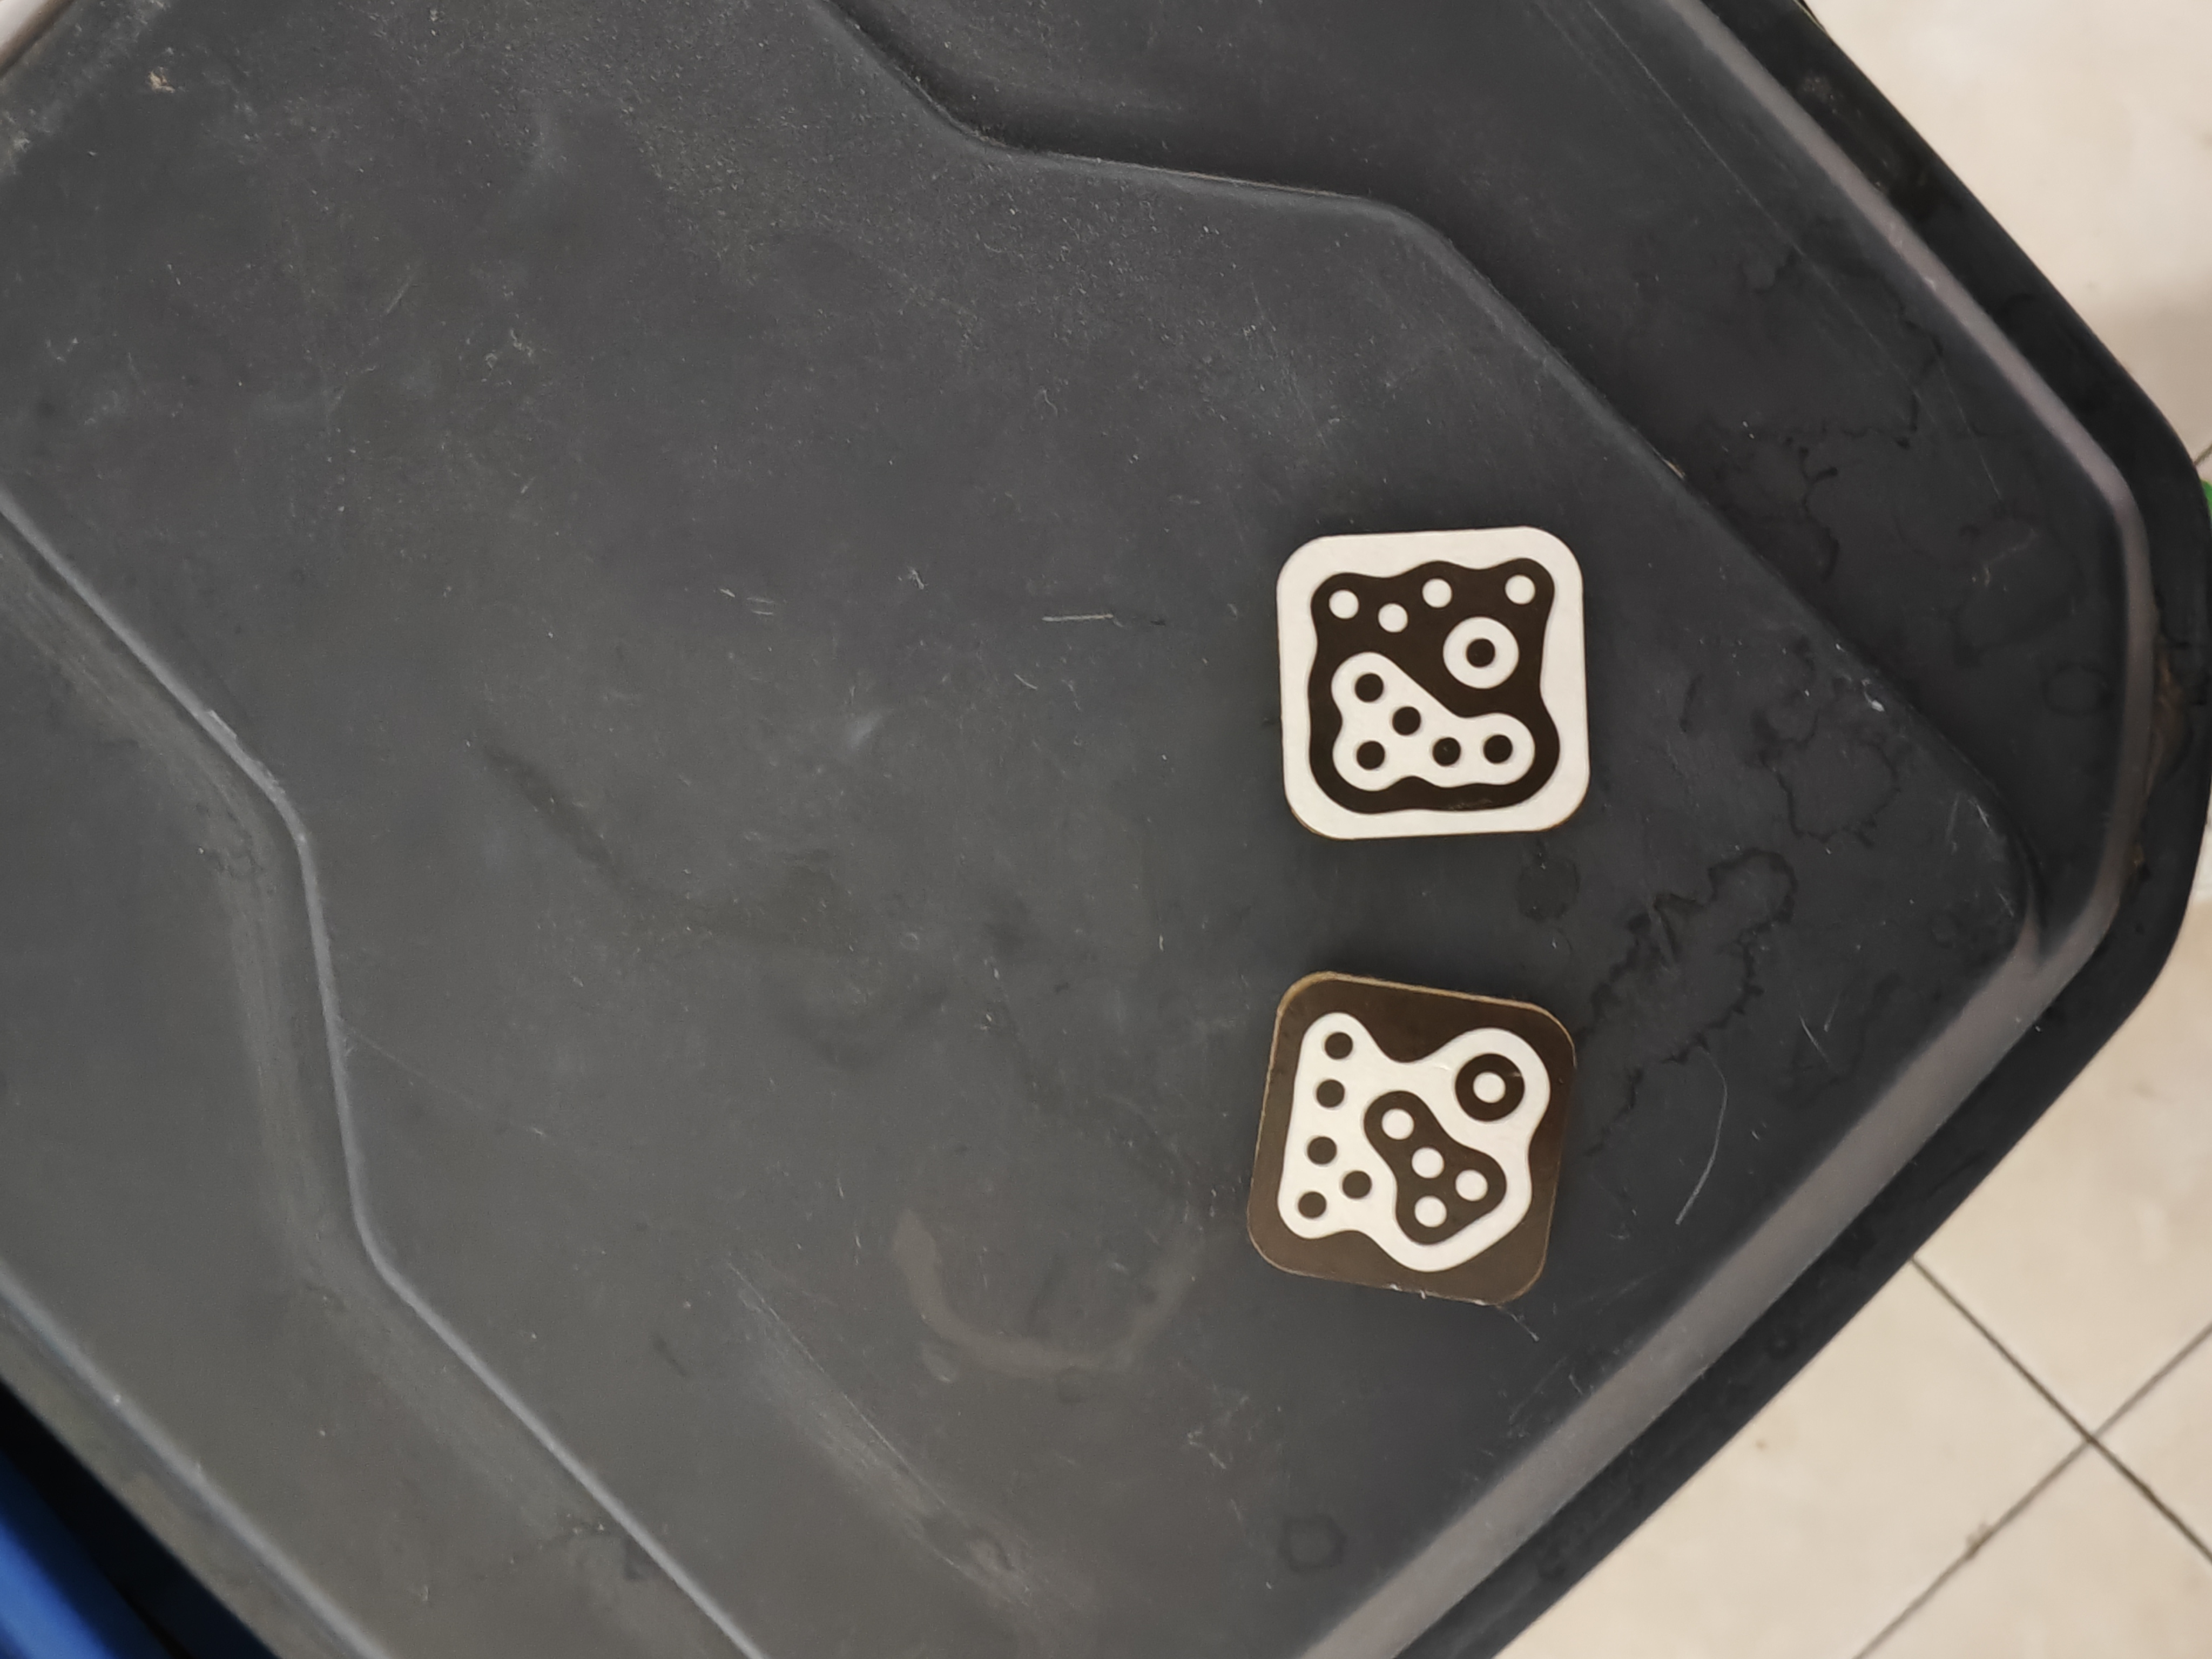mark1: (1308, 558, 1561, 814)
mark2: (1271, 1012, 1552, 1270)
